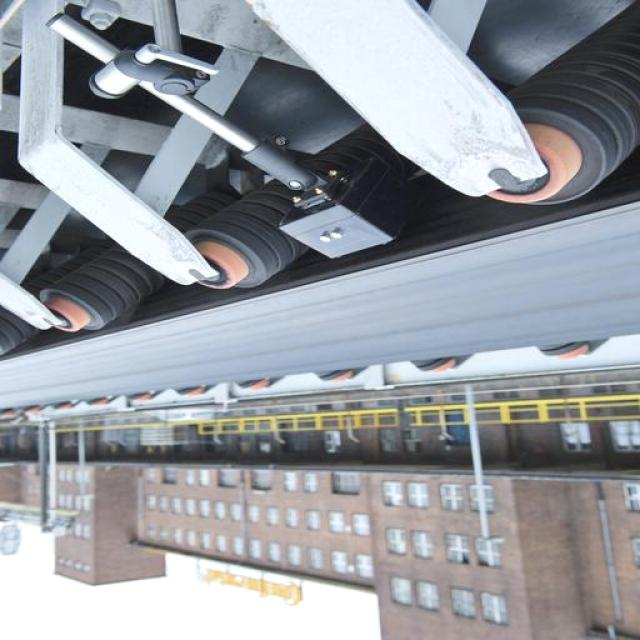conveyor: (0, 200, 640, 408)
